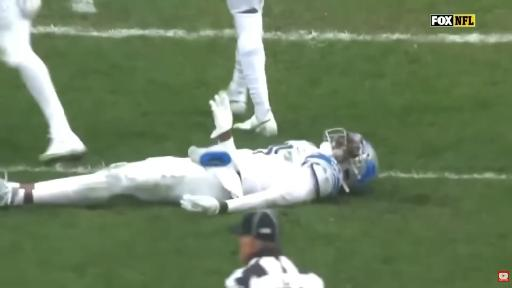Helmet: (319, 128, 377, 188)
Jersey: (227, 138, 346, 211)
Player: (0, 95, 343, 210), (181, 129, 377, 214), (0, 0, 86, 161), (227, 0, 277, 135)
